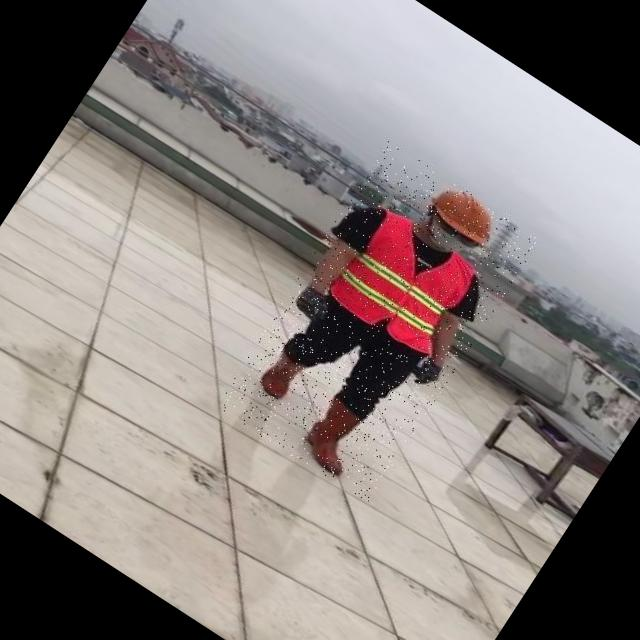hard_hat: (419, 174, 505, 250)
safety_vest: (328, 204, 486, 360)
vehicle: (214, 140, 539, 506)
work_boots: (296, 392, 379, 480), (252, 342, 310, 405)
